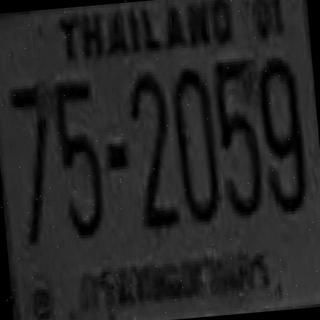N00: (168, 64, 219, 220)
N02: (127, 71, 176, 227)
N05: (51, 77, 105, 237), (211, 57, 264, 217)
N07: (6, 80, 59, 244)
N09: (254, 53, 308, 210)
P04: (73, 238, 280, 320)
